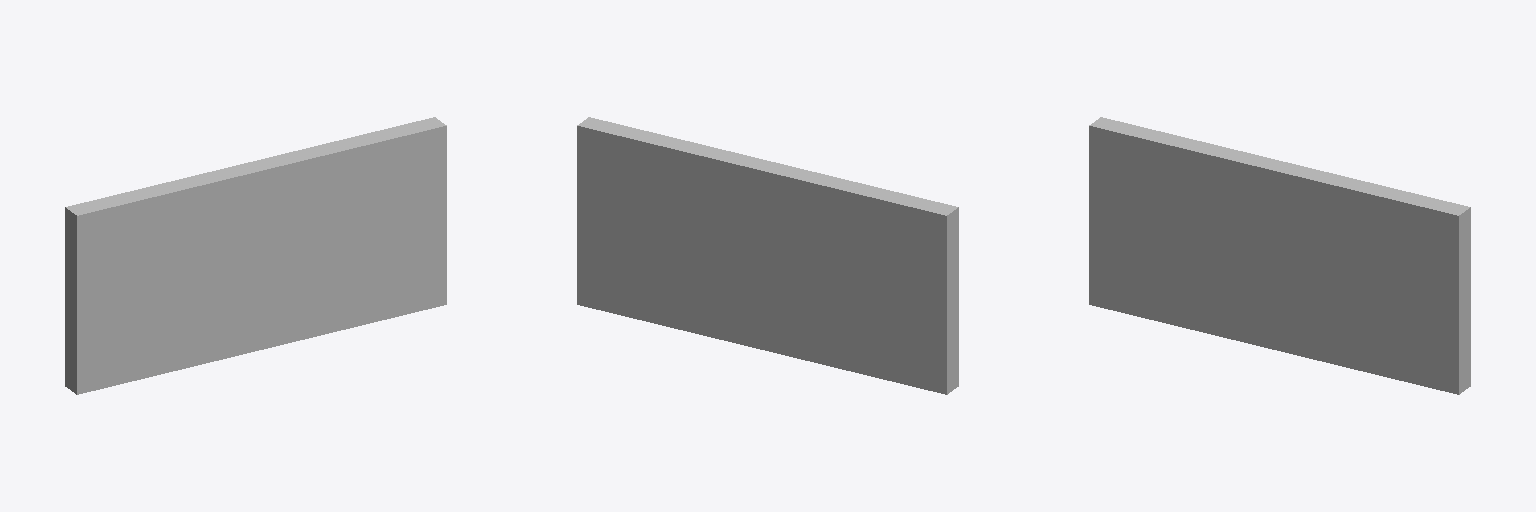
File: bottom_pad.obj
3 views of the same model, side by side, from view 1: azimuth 30°, elevation 25°; view 2: azimuth 150°, elevation 25°; view 3: azimuth 330°, elevation 25° (orthographic).
Bounding box in the file's own units: 54 × 25 × 3.